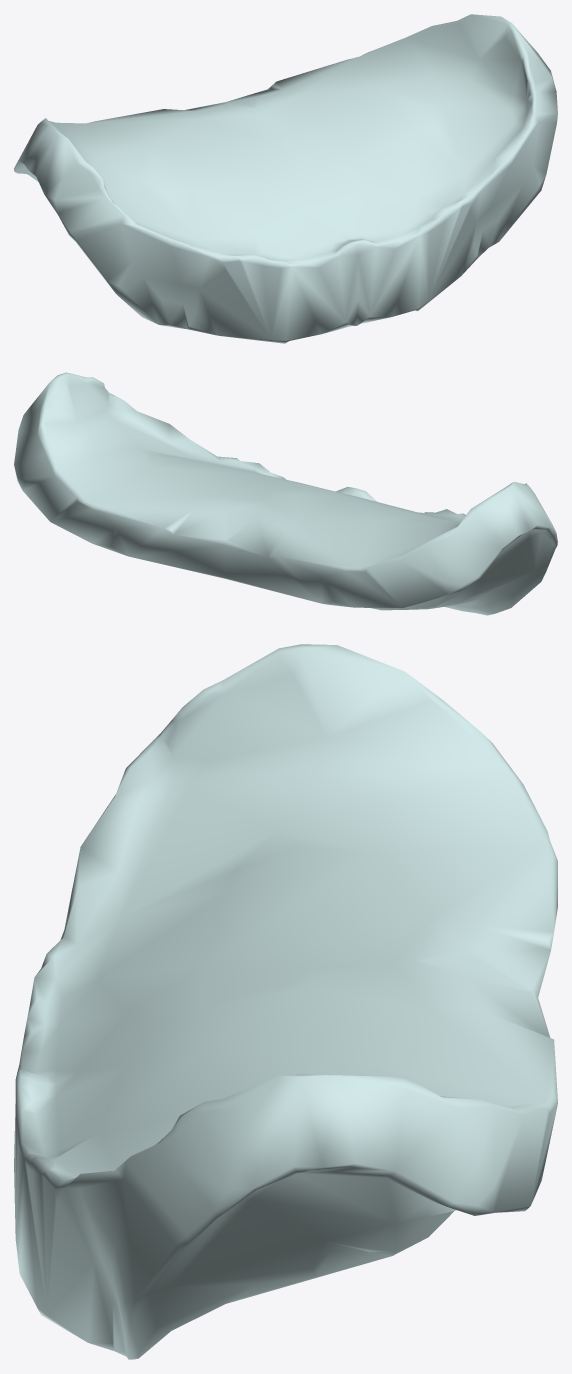
Rendered from Intervertebral_disc_C5-C6_Generated_Mesh_From_X3D.094.glb.
3 renders of one model, top to bottom at view 1: azimuth 30°, elevation 25°; view 2: azimuth 150°, elevation 25°; view 3: azimuth 270°, elevation 25°, orthographic. The views are drawn at different scales.
Parts seen in each view (by area): view 1: Intervertebral_disc_C5-C6_Generated_Mesh_From_X3D.094; view 2: Intervertebral_disc_C5-C6_Generated_Mesh_From_X3D.094; view 3: Intervertebral_disc_C5-C6_Generated_Mesh_From_X3D.094.
Boxes of the visible parts, x1=… form: Intervertebral_disc_C5-C6_Generated_Mesh_From_X3D.094: x1=14, y1=14, x2=557, y2=343; Intervertebral_disc_C5-C6_Generated_Mesh_From_X3D.094: x1=14, y1=372, x2=557, y2=615; Intervertebral_disc_C5-C6_Generated_Mesh_From_X3D.094: x1=14, y1=644, x2=557, y2=1359.
Bounding box in the file's own units: 0.0313 × 0.0118 × 0.0149.
